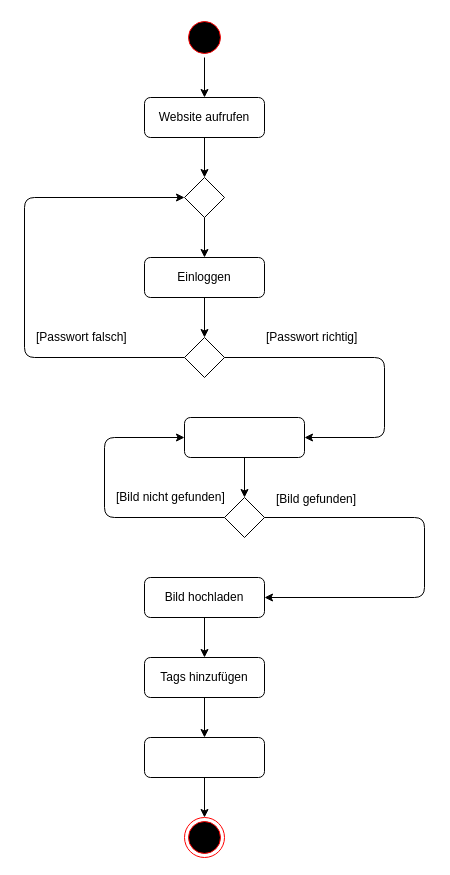
This 450x875 diagram has some shape labels left out. Each missing label, with the centre of its shape:
Bild veröffentlichen: the point at 204,757
Bilder suchen: the point at 244,437
